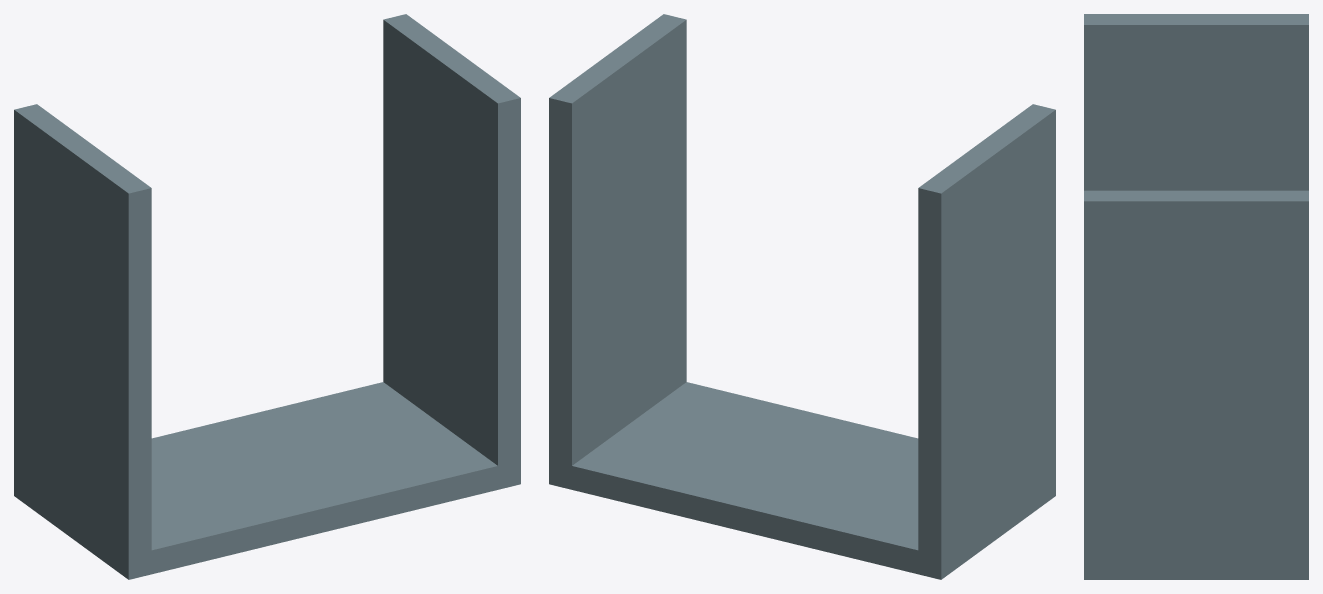
File: step-3.obj
The picture shows the model from 3 angles, left to right: view 1: azimuth 30°, elevation 25°; view 2: azimuth 150°, elevation 25°; view 3: azimuth 270°, elevation 25°; orthographic projection. The views are drawn at different scales.
Visible parts, largest first — view 1: IKE170029; view 2: IKE170029; view 3: IKE170029.
Part boxes in pixels (left/top/right/bottom): IKE170029: left=14, top=14, right=520, bottom=579; IKE170029: left=549, top=14, right=1055, bottom=579; IKE170029: left=1084, top=14, right=1308, bottom=579.
Size of the model in its own units: 0.77 by 0.725 by 0.39.
